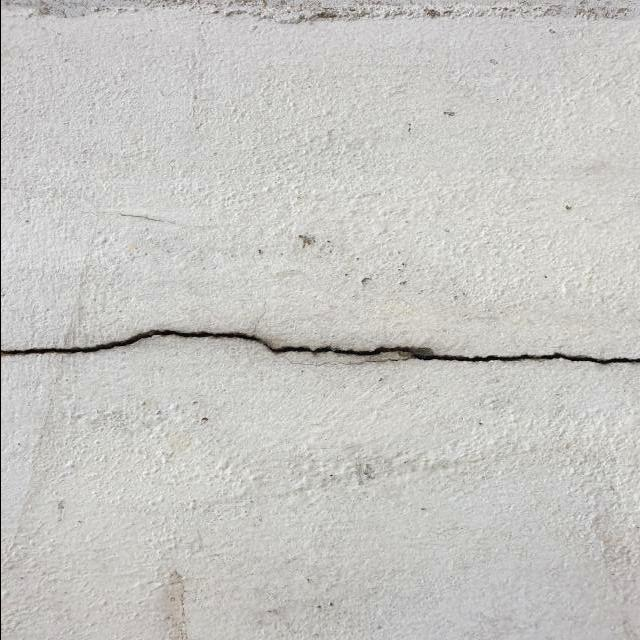SurfaceCrack: (1, 280, 640, 414), (1, 0, 640, 67)
